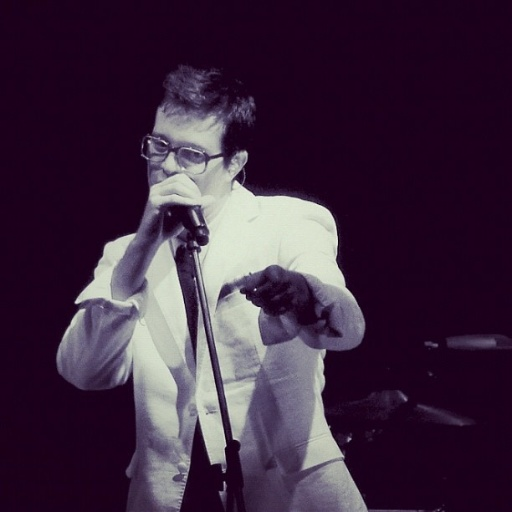hand: (135, 170, 208, 249), (240, 263, 307, 317)
